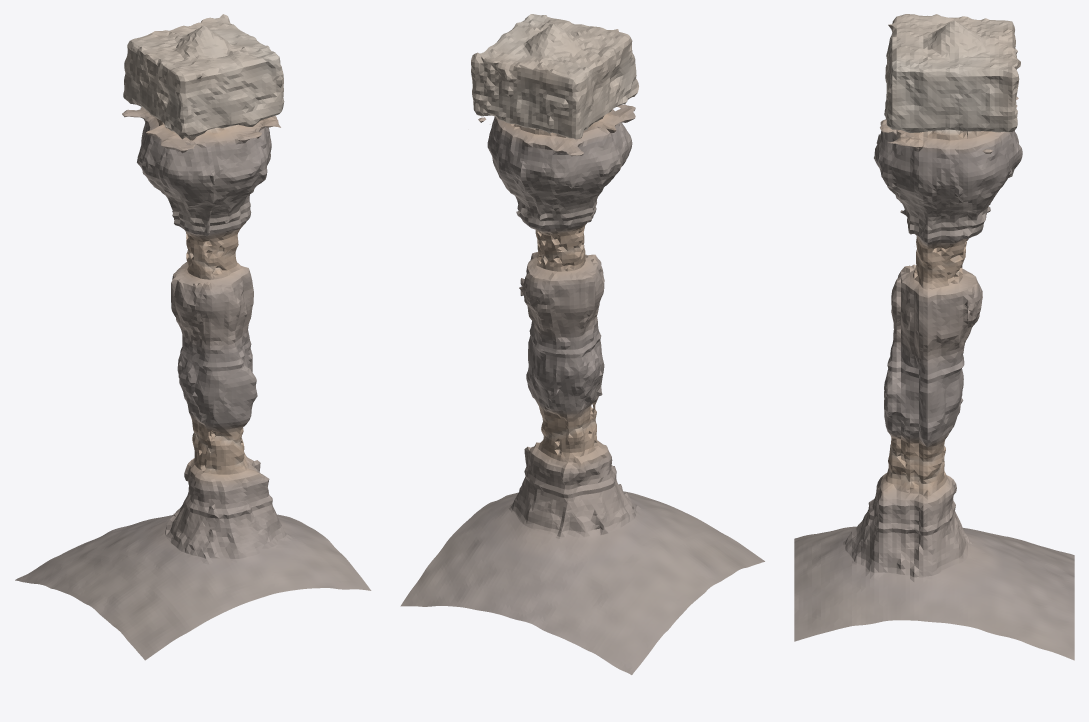
The model's file is hoodoo_bryce.glb.
The picture shows the model from 3 angles, left to right: view 1: azimuth 30°, elevation 25°; view 2: azimuth 150°, elevation 25°; view 3: azimuth 270°, elevation 25°; orthographic projection. The views are drawn at different scales.
Visible parts, largest first — view 1: geometry_0; view 2: geometry_0; view 3: geometry_0.
Part boxes in pixels (bbox=[...]): geometry_0: bbox=[15, 14, 371, 660]; geometry_0: bbox=[400, 14, 764, 674]; geometry_0: bbox=[794, 14, 1074, 660].
Bounding box in the file's own units: 7.5 × 18.84 × 7.5.
